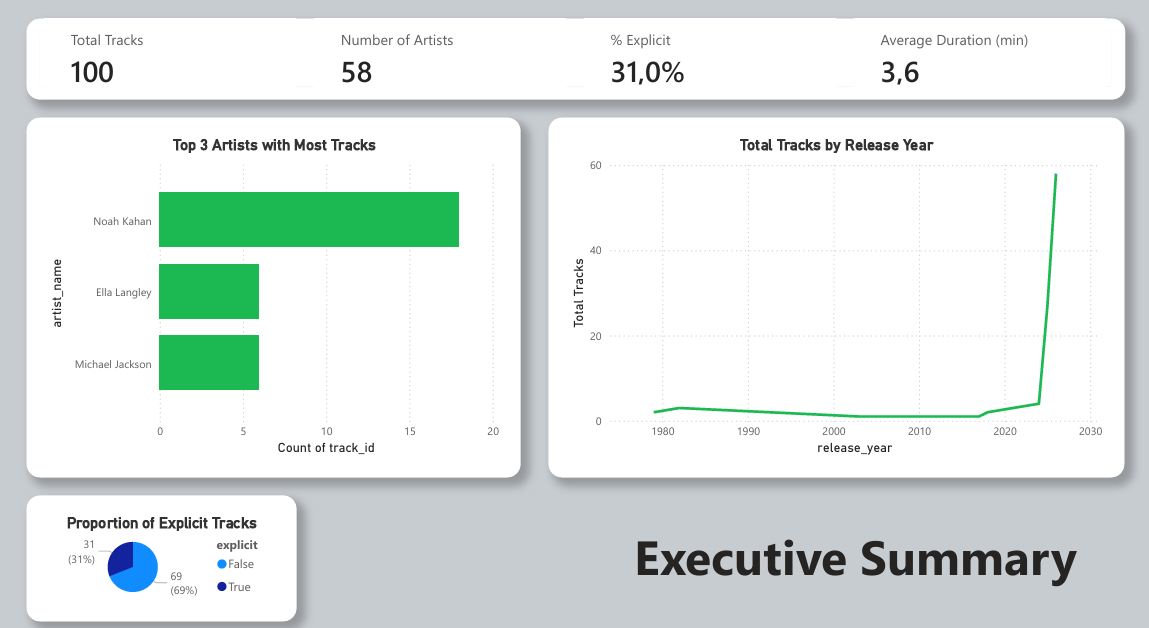

This screenshot's page, from the dashboard's own definition file:
{"tool":"powerbi","page":{"name":"Executive Summary","canvas":[1280,720],"ordinal":0},"visuals":[{"type":"shape","box":[30,30,1220.6,90.4],"z":0},{"type":"cardVisual","fields":{"Data":["Count(fact_track_metrics.artist_id)"]},"box":[350,30,280,90],"z":1000},{"type":"cardVisual","fields":{"Data":["fact_track_metrics.Total Tracks"]},"box":[50,30,279.7,90.4],"z":2000},{"type":"cardVisual","fields":{"Data":["fact_track_metrics.% Explicit"]},"box":[650,30,280,90.4],"z":3000},{"type":"cardVisual","fields":{"Data":["fact_track_metrics.Average Duration (min)"]},"box":[950,30,280,90.4],"z":4000},{"type":"shape","box":[30,140,549.3,400.2],"z":4250},{"type":"shape","box":[610,140,640,400],"z":4375},{"type":"shape","box":[30,560,300,140],"z":4500},{"type":"barChart","title":" Top 3 Artists with Most Tracks","fields":{"Category":["dim_artist.artist_name"],"Y":["CountNonNull(fact_track_metrics.track_id)"]},"box":[50,160,510,360],"z":5000},{"type":"lineChart","title":"Total Tracks by Release Year","fields":{"Category":["fact_track_metrics.release_year"],"Y":["fact_track_metrics.Total Tracks"]},"box":[630,160,600,360],"z":6000},{"type":"pieChart","title":"Proportion of Explicit Tracks","fields":{"Y":["fact_track_metrics.Total Tracks"],"Category":["fact_track_metrics.explicit"]},"box":[50,580,260,100],"z":7000},{"type":"textbox","box":[700,585,510,90],"z":7001}]}

Visuals, with their boxes in screenshot pixels (x1, y1, x2, y2), scaled from the page's 1280x720 canvas onto the 1149x628 screenshot:
shape: locate(27, 26, 1123, 105)
cardVisual - Count(fact_track_metrics.artist_id): locate(314, 26, 566, 105)
cardVisual - fact_track_metrics.Total Tracks: locate(45, 26, 296, 105)
cardVisual - fact_track_metrics.% Explicit: locate(583, 26, 835, 105)
cardVisual - fact_track_metrics.Average Duration (min): locate(853, 26, 1104, 105)
shape: locate(27, 122, 520, 471)
shape: locate(548, 122, 1122, 471)
shape: locate(27, 488, 296, 611)
" Top 3 Artists with Most Tracks" barChart: locate(45, 140, 503, 454)
"Total Tracks by Release Year" lineChart: locate(566, 140, 1104, 454)
"Proportion of Explicit Tracks" pieChart: locate(45, 506, 278, 593)
textbox: locate(628, 510, 1086, 589)
